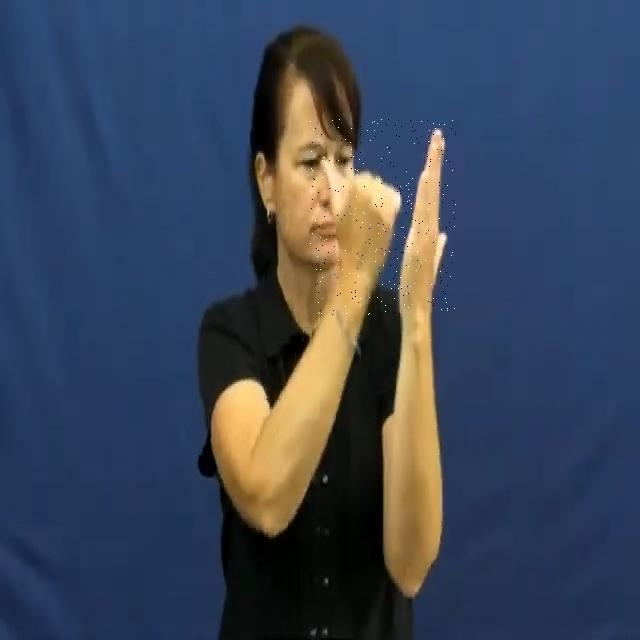menu: (310, 119, 456, 315)
